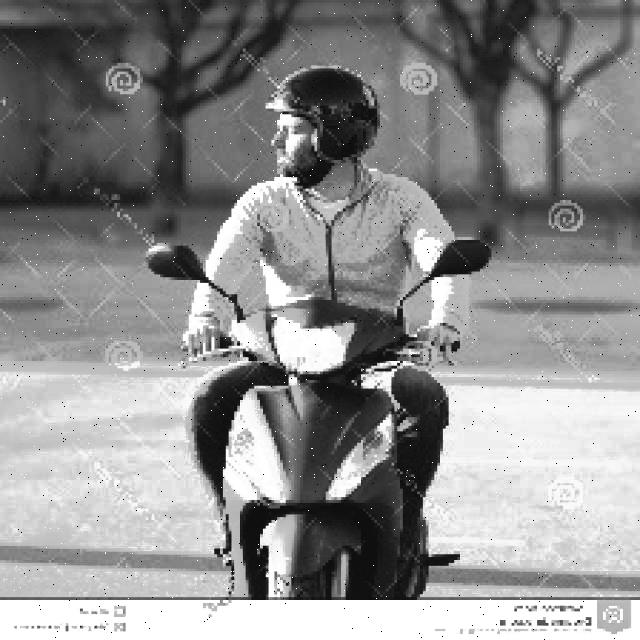Bike: (186, 283, 434, 612)
